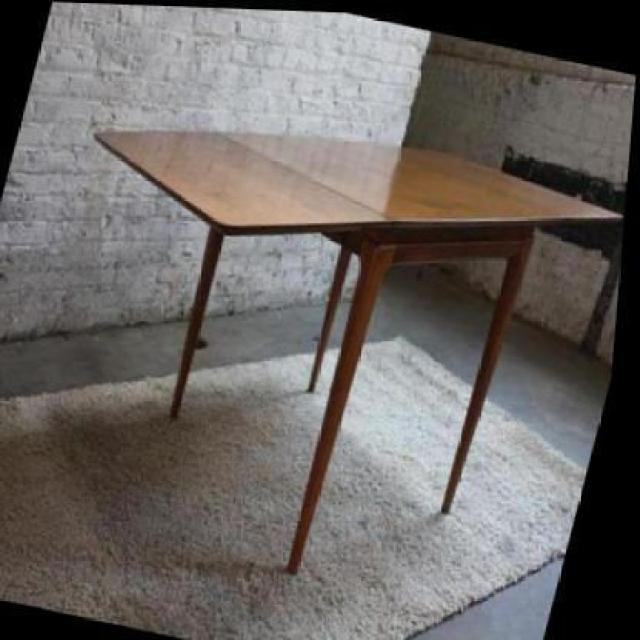tables: (91, 126, 623, 574)
